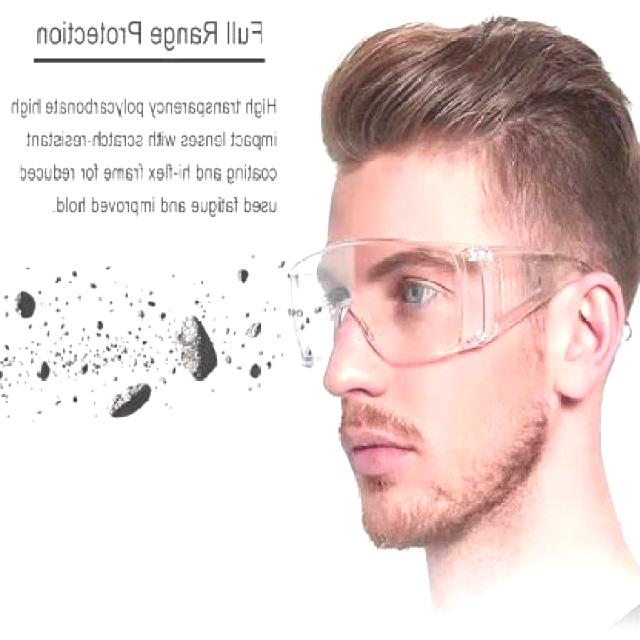face_nomask: (300, 269, 466, 494)
glasses: (281, 238, 636, 364)
head_nohelmet: (314, 13, 595, 202)
